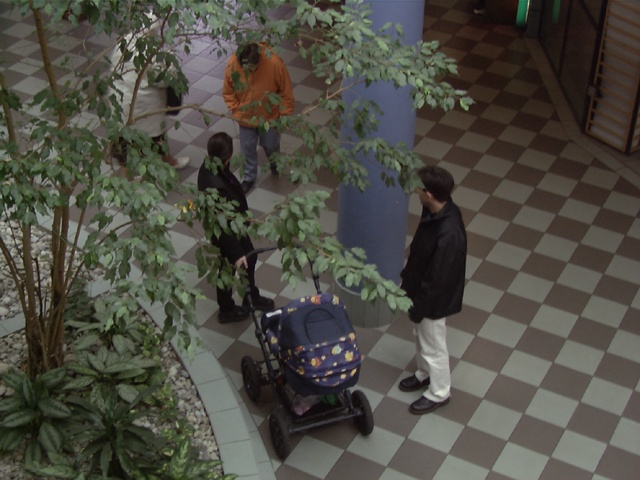person: (397, 160, 469, 413)
